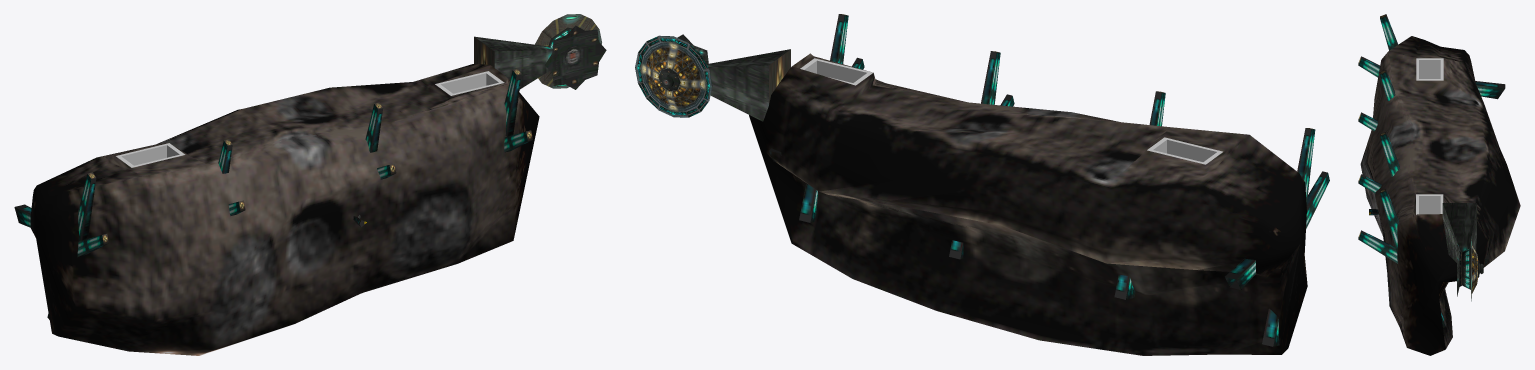
The model's file is ss18_static.obj.
3 views of the same model, side by side, from view 1: azimuth 30°, elevation 25°; view 2: azimuth 150°, elevation 25°; view 3: azimuth 270°, elevation 25° (orthographic). The views are drawn at different scales.
Visible parts, largest first — view 1: frm-nurbs6_1, frm-fuselg1, frm-cube1, frm-cube11, frm-cube10, frm-cube9; view 2: frm-nurbs6_1, frm-fuselg1, frm-cube1, frm-cube11, frm-cube7, frm-cube9, frm-cube10, frm-cube6_2; view 3: frm-nurbs6_1, frm-cube1, frm-fuselg1, frm-cube11, frm-cube6_2, frm-cube10, frm-cube9, frm-cube8, frm-cube7, frm-cube6_1, frm-cube6.
Part boxes in pixels (x1,y1,x2,y2): frm-nurbs6_1: (30, 64, 539, 355); frm-fuselg1: (535, 14, 606, 89); frm-cube1: (474, 36, 552, 89); frm-cube11: (14, 172, 96, 240); frm-cube10: (504, 68, 521, 136); frm-cube9: (365, 102, 383, 152); frm-nurbs6_1: (749, 53, 1307, 355); frm-fuselg1: (635, 34, 712, 117); frm-cube1: (706, 49, 790, 121); frm-cube11: (1225, 128, 1315, 289); frm-cube7: (1262, 171, 1329, 346); frm-cube9: (981, 51, 1000, 104); frm-cube10: (768, 14, 848, 161); frm-cube6_2: (799, 57, 864, 222); frm-nurbs6_1: (1360, 36, 1520, 355); frm-cube1: (1442, 203, 1476, 262); frm-fuselg1: (1457, 236, 1483, 301); frm-cube11: (1380, 14, 1505, 99); frm-cube6_2: (1358, 230, 1446, 327); frm-cube10: (1380, 189, 1489, 266); frm-cube9: (1380, 132, 1400, 176); frm-cube8: (1380, 70, 1395, 101); frm-cube7: (1358, 56, 1379, 77); frm-cube6_1: (1358, 174, 1381, 193); frm-cube6: (1358, 112, 1377, 131).
Size of the model in its own units: 25.96 by 9.47 by 7.4.
